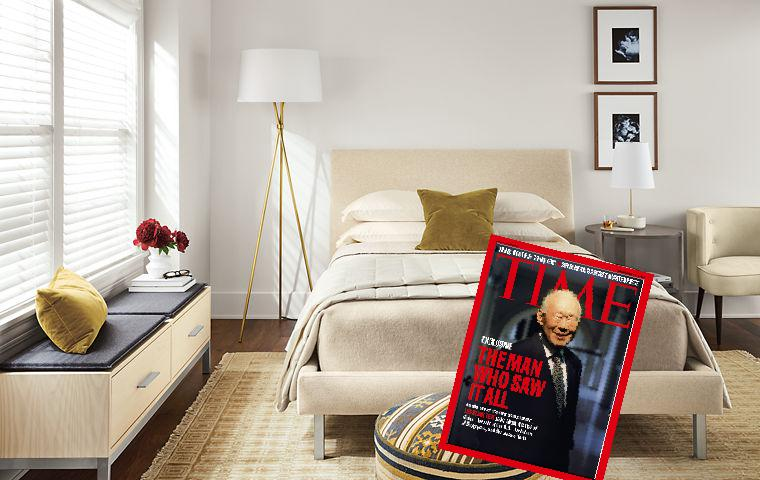times: (433, 238, 667, 480)
